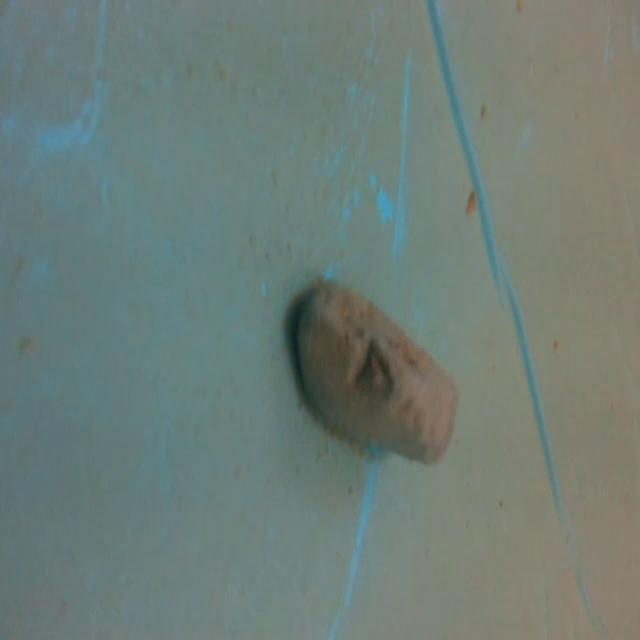rock: (280, 268, 465, 478)
